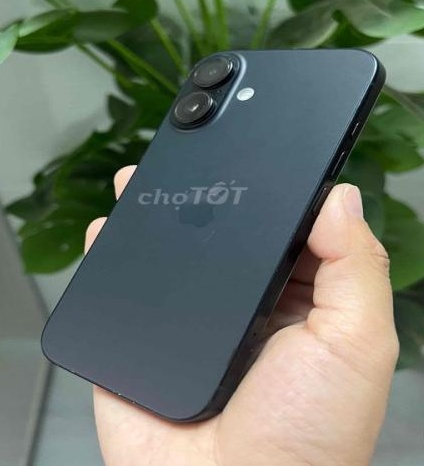scratch: (48, 355, 94, 399), (106, 386, 152, 421), (285, 223, 310, 254), (225, 53, 247, 73)
